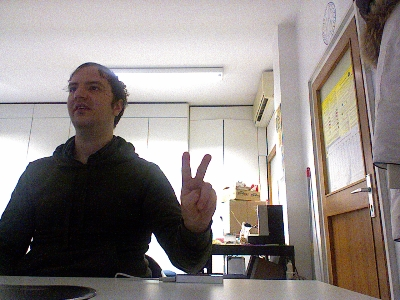剪刀: (179, 151, 216, 234)
